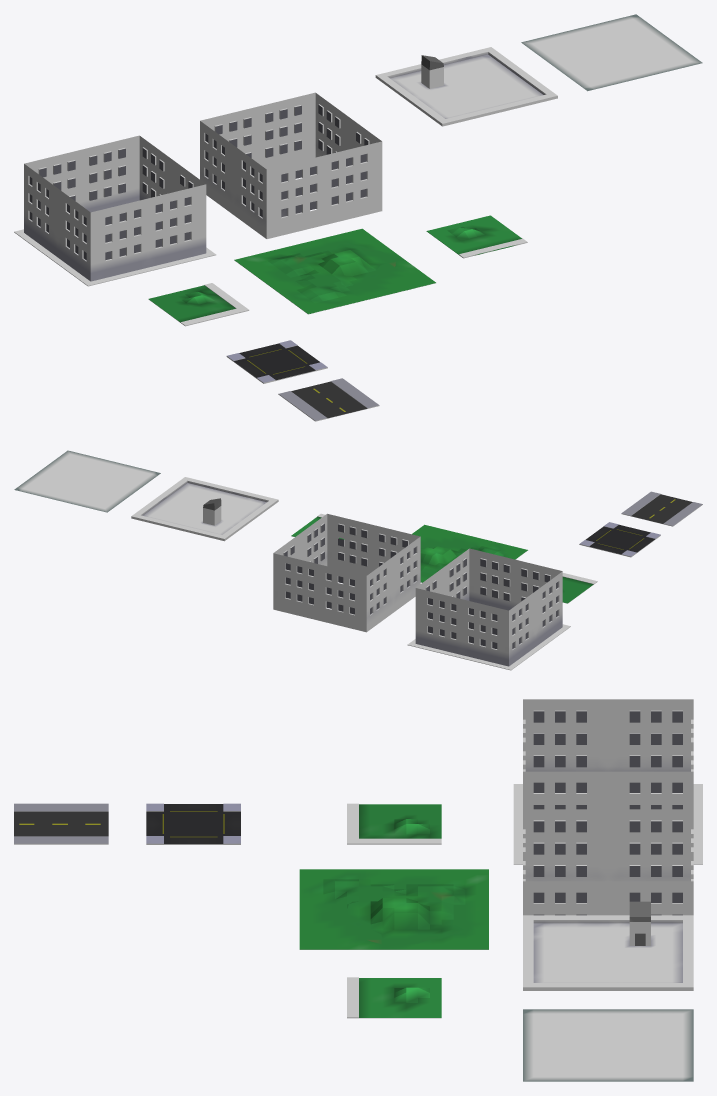
Rendered from city.fbx.
3 renders of one model, top to bottom at view 1: azimuth 30°, elevation 25°; view 2: azimuth 150°, elevation 25°; view 3: azimuth 270°, elevation 25°, orthographic. The views are drawn at different scales.
Parts seen in each view (by area): view 1: Cube.003, Cube.004, Cube.007, Cube.005, Cube.006, Cube.002, Cube.001, Cube.009, Cube.008; view 2: Cube.003, Cube.004, Cube.005, Cube.006, Cube.007, Cube.002, Cube.001, Cube.009; view 3: Cube.003, Cube.004, Cube.007, Cube.005, Cube.006, Cube.001, Cube.002, Cube.009, Cube.008.
Boxes of the visible parts, left/top/right/bottom form: Cube.003: left=14, top=135, right=216, bottom=286; Cube.004: left=200, top=92, right=382, bottom=238; Cube.007: left=234, top=228, right=435, bottom=314; Cube.005: left=375, top=47, right=557, bottom=126; Cube.006: left=521, top=14, right=702, bottom=91; Cube.002: left=226, top=340, right=327, bottom=383; Cube.001: left=278, top=378, right=379, bottom=421; Cube.009: left=148, top=283, right=249, bottom=326; Cube.008: left=426, top=215, right=527, bottom=258; Cube.003: left=407, top=548, right=570, bottom=670; Cube.004: left=273, top=513, right=420, bottom=632; Cube.005: left=131, top=477, right=278, bottom=541; Cube.006: left=14, top=450, right=160, bottom=512; Cube.007: left=412, top=524, right=527, bottom=582; Cube.002: left=579, top=522, right=660, bottom=557; Cube.001: left=621, top=491, right=702, bottom=526; Cube.009: left=562, top=573, right=597, bottom=603; Cube.003: left=513, top=699, right=702, bottom=864; Cube.004: left=523, top=809, right=693, bottom=915; Cube.007: left=299, top=869, right=488, bottom=949; Cube.005: left=523, top=901, right=693, bottom=990; Cube.006: left=523, top=1009, right=693, bottom=1081; Cube.001: left=14, top=803, right=108, bottom=844; Cube.002: left=146, top=803, right=240, bottom=844; Cube.009: left=347, top=803, right=441, bottom=844; Cube.008: left=347, top=977, right=441, bottom=1018.
Size of the model in its own units: 9644 by 1457 by 7275.
